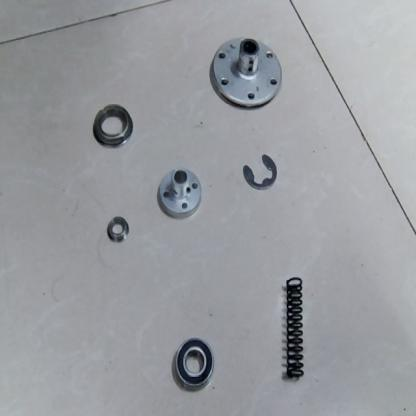FOD: (207, 32, 285, 110), (278, 272, 310, 384), (154, 163, 206, 225), (171, 335, 220, 392), (90, 102, 138, 148), (239, 152, 280, 194), (103, 214, 130, 245)
